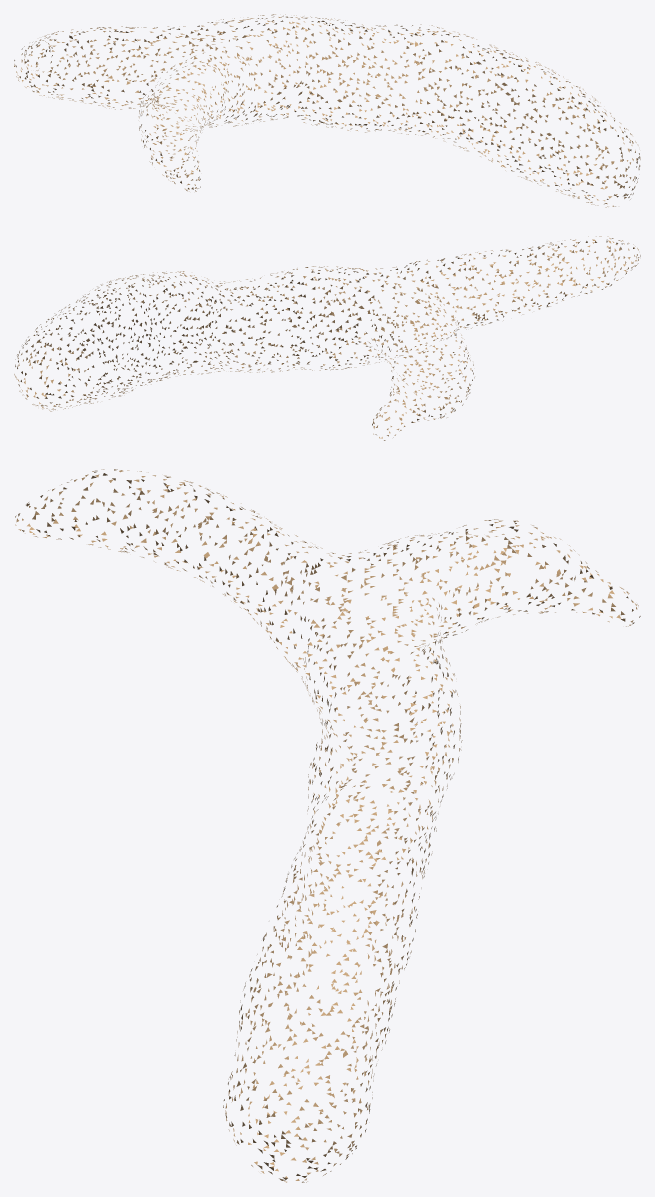
File: morph_006.glb
3 views of the same model, one above another, from view 1: azimuth 30°, elevation 25°; view 2: azimuth 150°, elevation 25°; view 3: azimuth 270°, elevation 25° (orthographic). The views are drawn at different scales.
Size of the model in its own units: 119 by 52.54 by 82.42.
